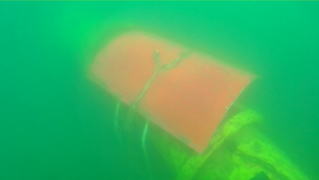leak: (88, 29, 251, 153)
pipe: (120, 99, 310, 180), (45, 1, 134, 76)
